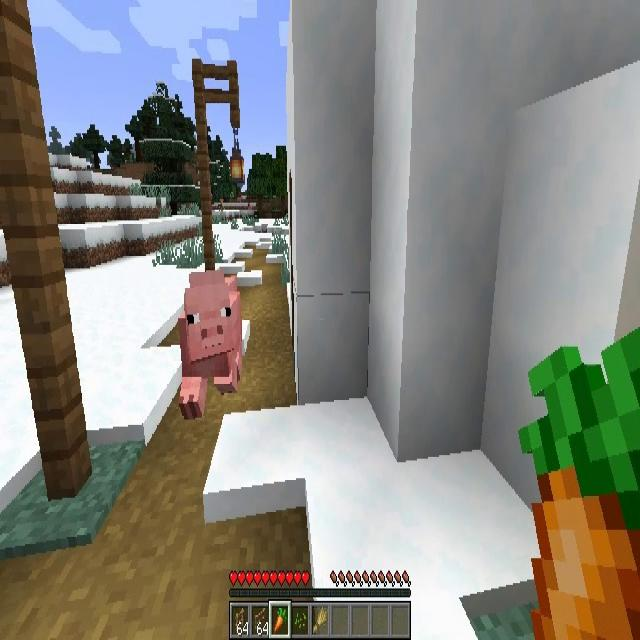pig: (179, 269, 241, 422)
